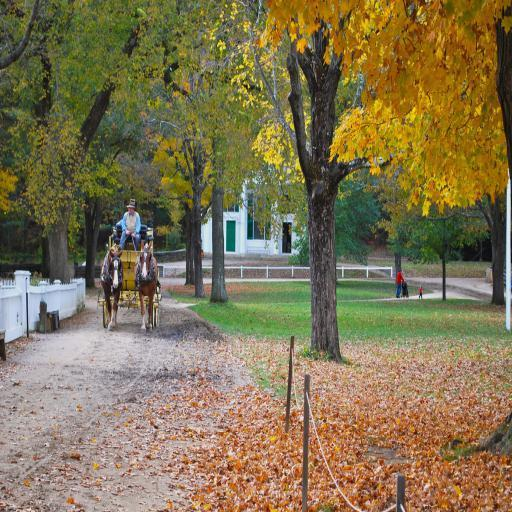horse: (133, 235, 159, 332), (102, 246, 125, 332)
